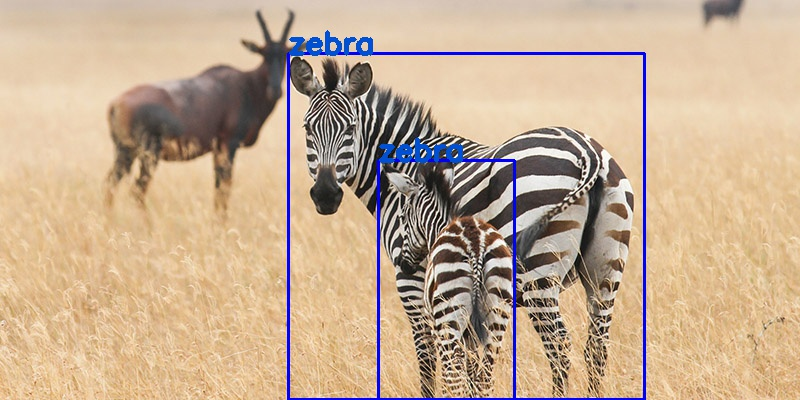zebra: (288, 52, 644, 399), (378, 160, 514, 400)
